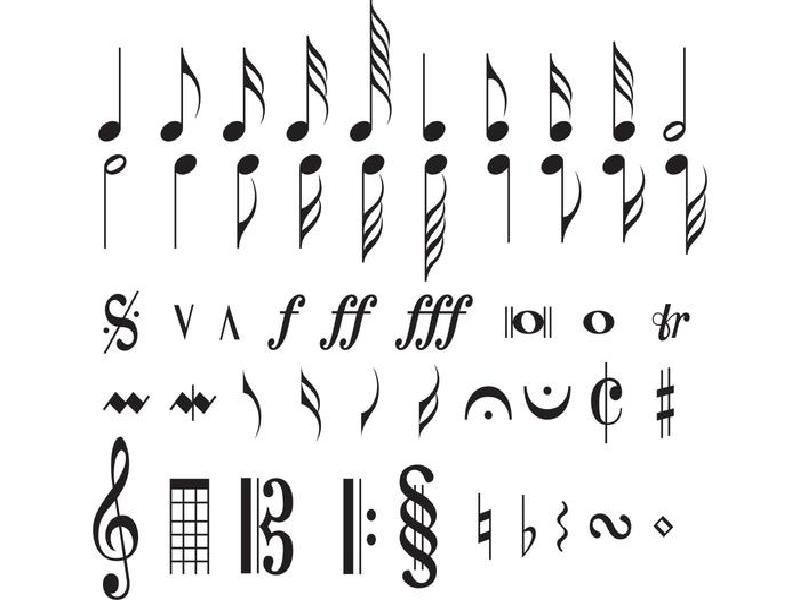B: (102, 154, 131, 249), (664, 42, 690, 142)
Bem: (519, 494, 538, 556)
C: (541, 151, 585, 244), (162, 47, 202, 141), (481, 47, 512, 143), (235, 155, 259, 249)
CS: (92, 436, 141, 600)
N: (94, 47, 129, 142), (486, 150, 520, 244), (169, 153, 199, 246), (419, 53, 449, 141)
R: (580, 310, 618, 338)
SC: (600, 154, 649, 242), (224, 47, 266, 142), (296, 154, 325, 247), (548, 51, 574, 142)
SOS: (655, 366, 677, 441)
